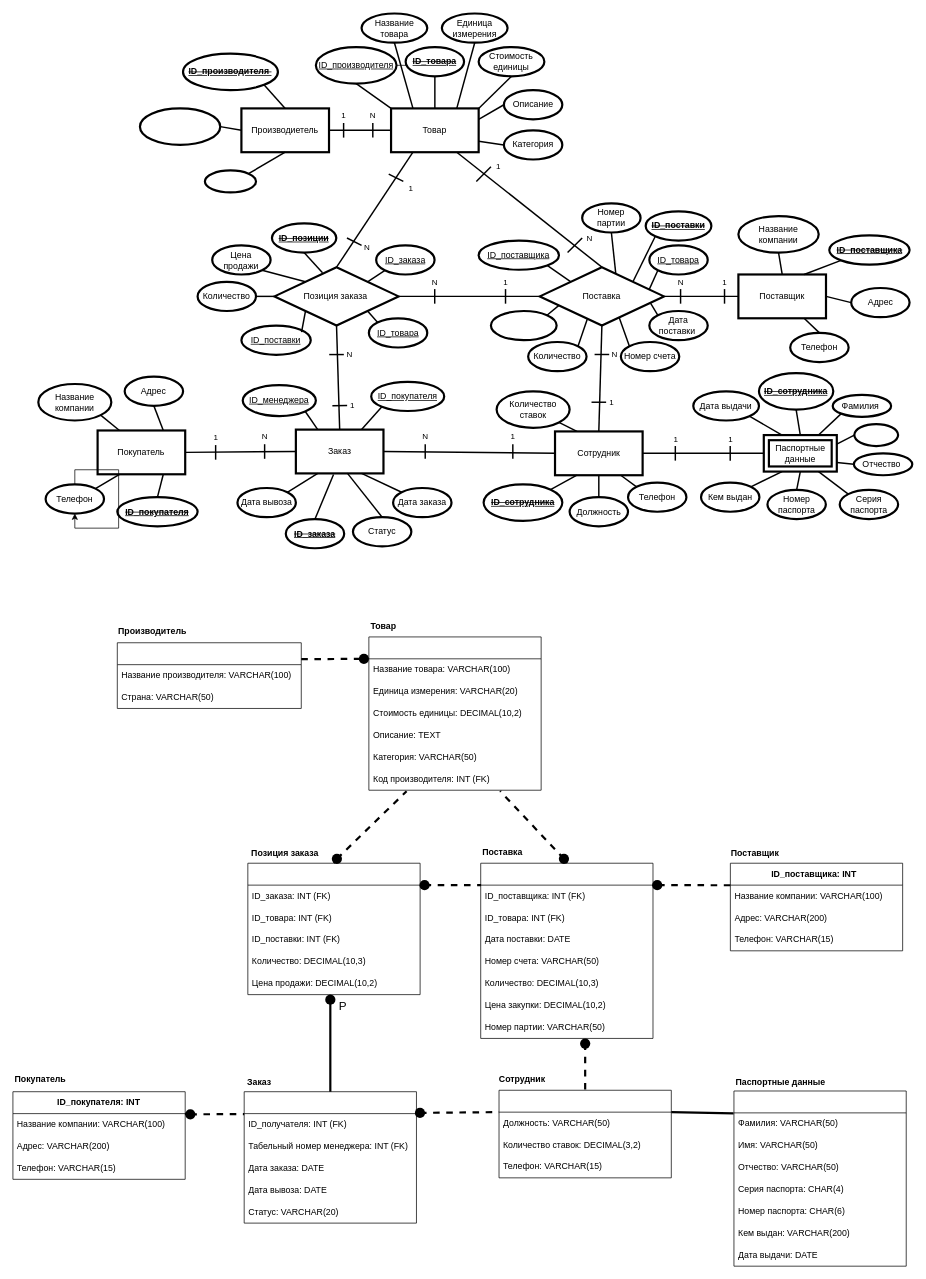
Some shapes in this 926 by 1279 pixel diagram are drawn without their labels. Each missing label, with the box of its shape:
ID_заказа: INT: (243, 1091, 416, 1223)
ID_позиции: INT: (247, 862, 420, 995)
ID_поставки: INT: (480, 862, 653, 1038)
ID_производителя: INT: (117, 642, 301, 708)
ID_сотрудника: INT: (498, 1090, 671, 1178)
ID_сотрудника: INT (FK): (733, 1090, 906, 1266)
ID_товара: INT: (368, 636, 541, 790)
Имя: (853, 423, 899, 447)
Название производителя: (138, 107, 221, 146)
Страна: (203, 169, 257, 193)
Цена закупки: (489, 310, 557, 341)
